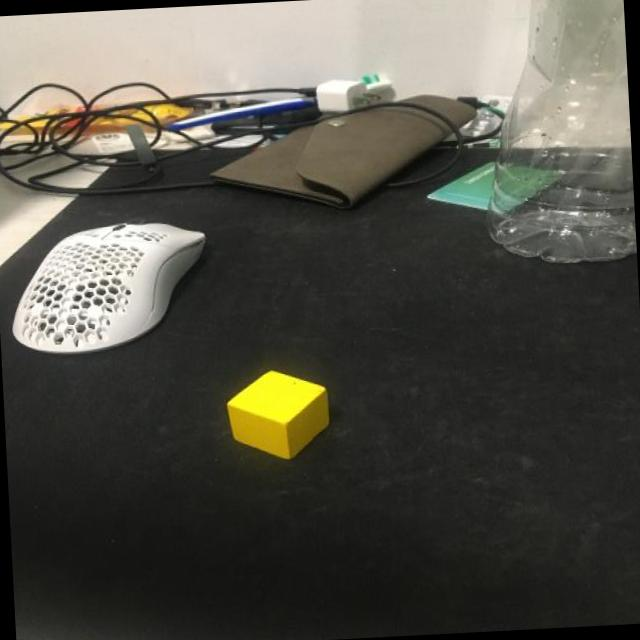yellow: (226, 367, 332, 462)
